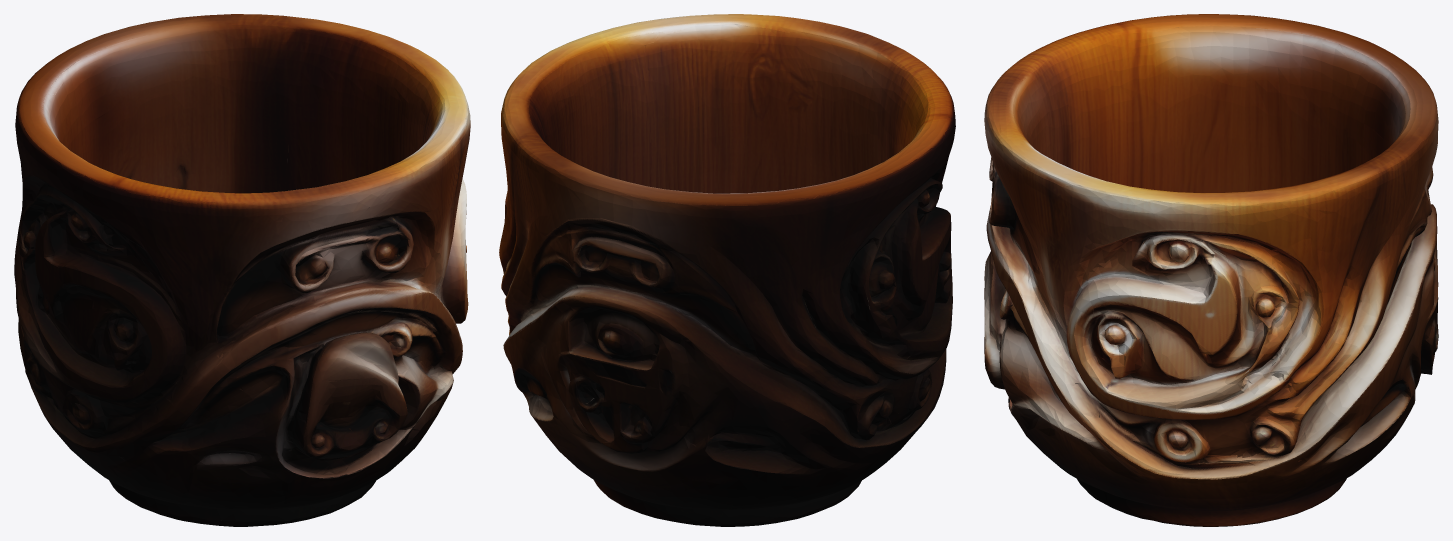
File: wooden-cup-3d.jpeg.glb
3 renders of one model, left to right at view 1: azimuth 30°, elevation 25°; view 2: azimuth 150°, elevation 25°; view 3: azimuth 270°, elevation 25°, orthographic.
Parts seen in each view (by area): view 1: world; view 2: world; view 3: world.
Boxes of the visible parts, x1,y1,x2,y2 form: world: (14, 14, 470, 526); world: (499, 14, 955, 526); world: (984, 14, 1438, 526).
Size of the model in its own units: 0.9998 by 0.8853 by 0.9995.
1 material, 1 textured.
